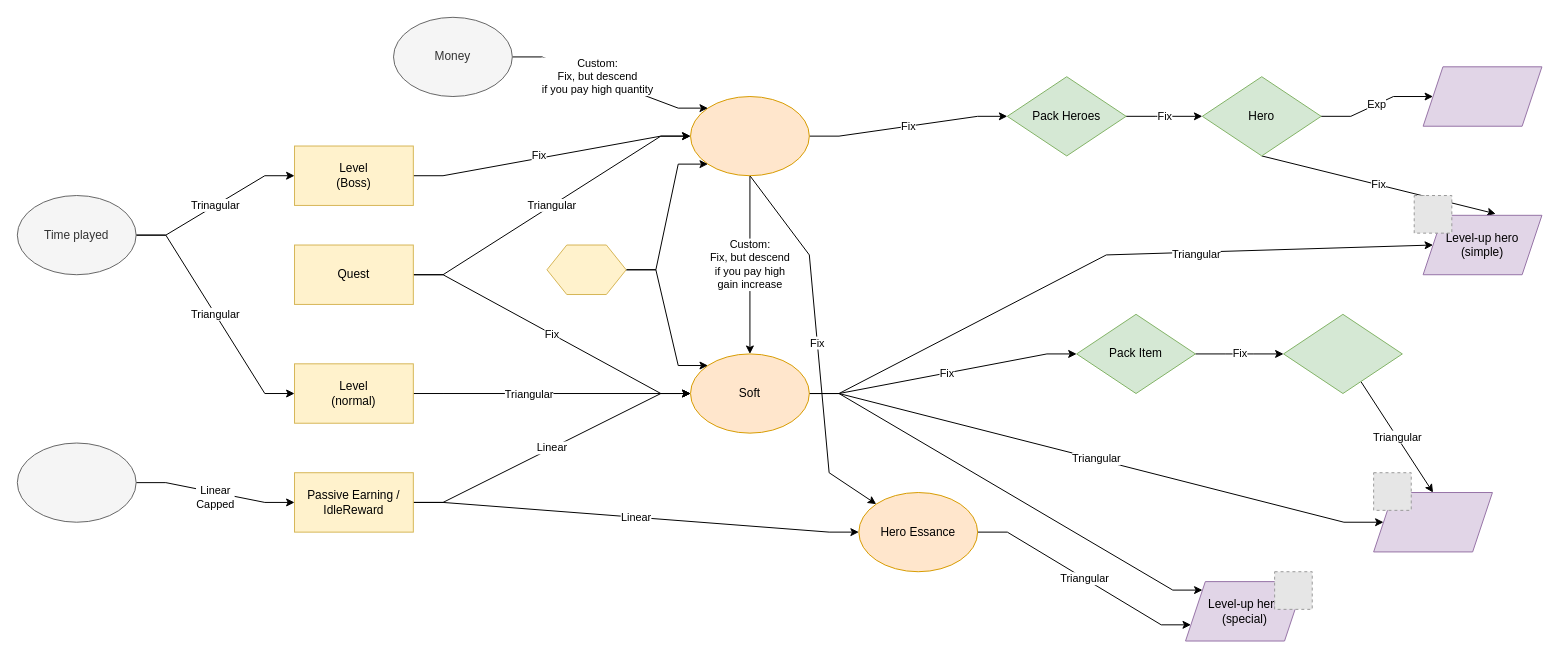
Some shapes in this 1559 by 658 pixel diagram are drawn without their labels. Grey dashed boxes stand in for pictures. The centre of each missing label's shape, as x and y in pixels:
"Ascension" goes at (1482,96).
"Hard" goes at (749,136).
"Item" goes at (1342,353).
"Starting fund" goes at (586,269).
"Time wait" goes at (76,482).
"Upgrade Item" goes at (1432,522).
